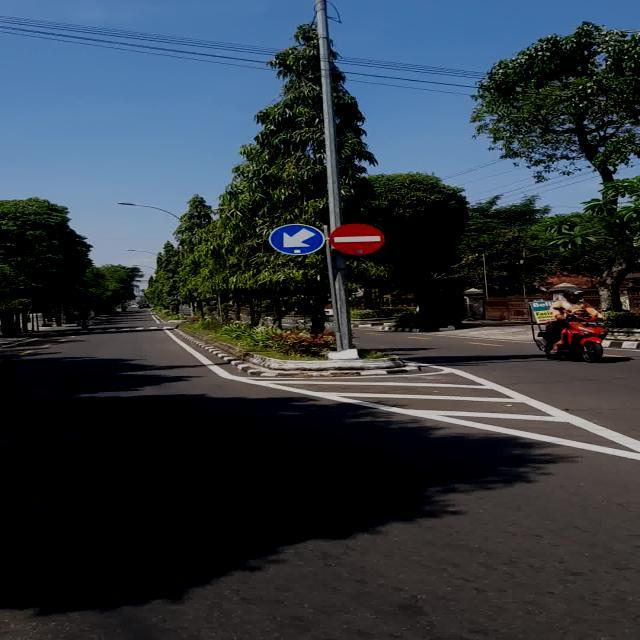Dilarang Masuk: (330, 223, 385, 254)
Lajur Kiri: (268, 223, 324, 256)
